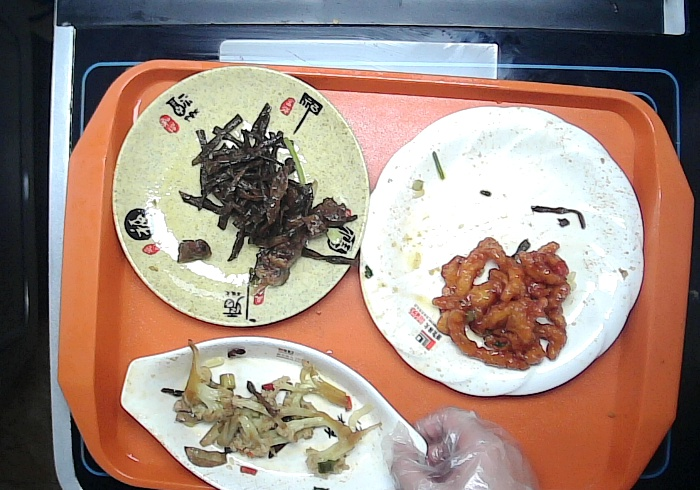NLDX-Bai_Zhe_Yuan_Pan: (358, 104, 644, 398)
NLDX-Fu_Zi_Yuan_Pan: (109, 65, 368, 328)
NLDX-Yu_Pan: (115, 335, 428, 490)
